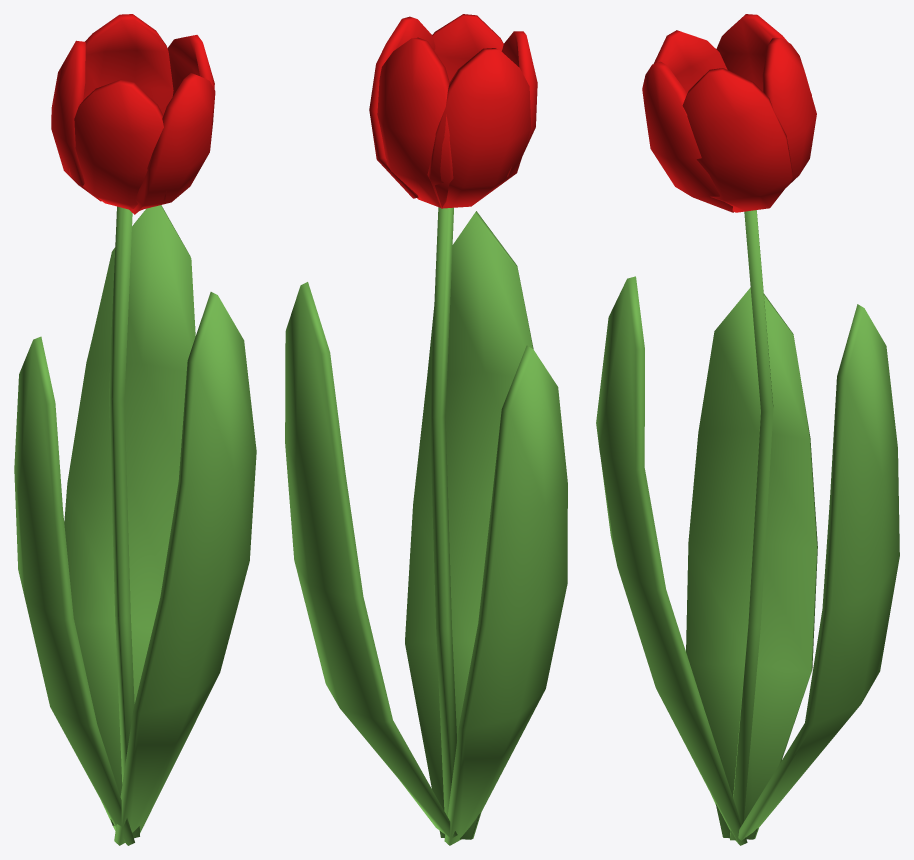
Rendered from TulipRed02.fbx.
3 views of the same model, side by side, from view 1: azimuth 30°, elevation 25°; view 2: azimuth 150°, elevation 25°; view 3: azimuth 270°, elevation 25° (orthographic).
Parts seen in each view (by area): view 1: TulipRed02; view 2: TulipRed02; view 3: TulipRed02.
Part boxes in pixels (bbox=[...]): TulipRed02: bbox=[14, 14, 256, 845]; TulipRed02: bbox=[285, 14, 567, 845]; TulipRed02: bbox=[596, 14, 899, 845].
Bounding box in the file's own units: 0.3027 × 1.06 × 0.3613.
